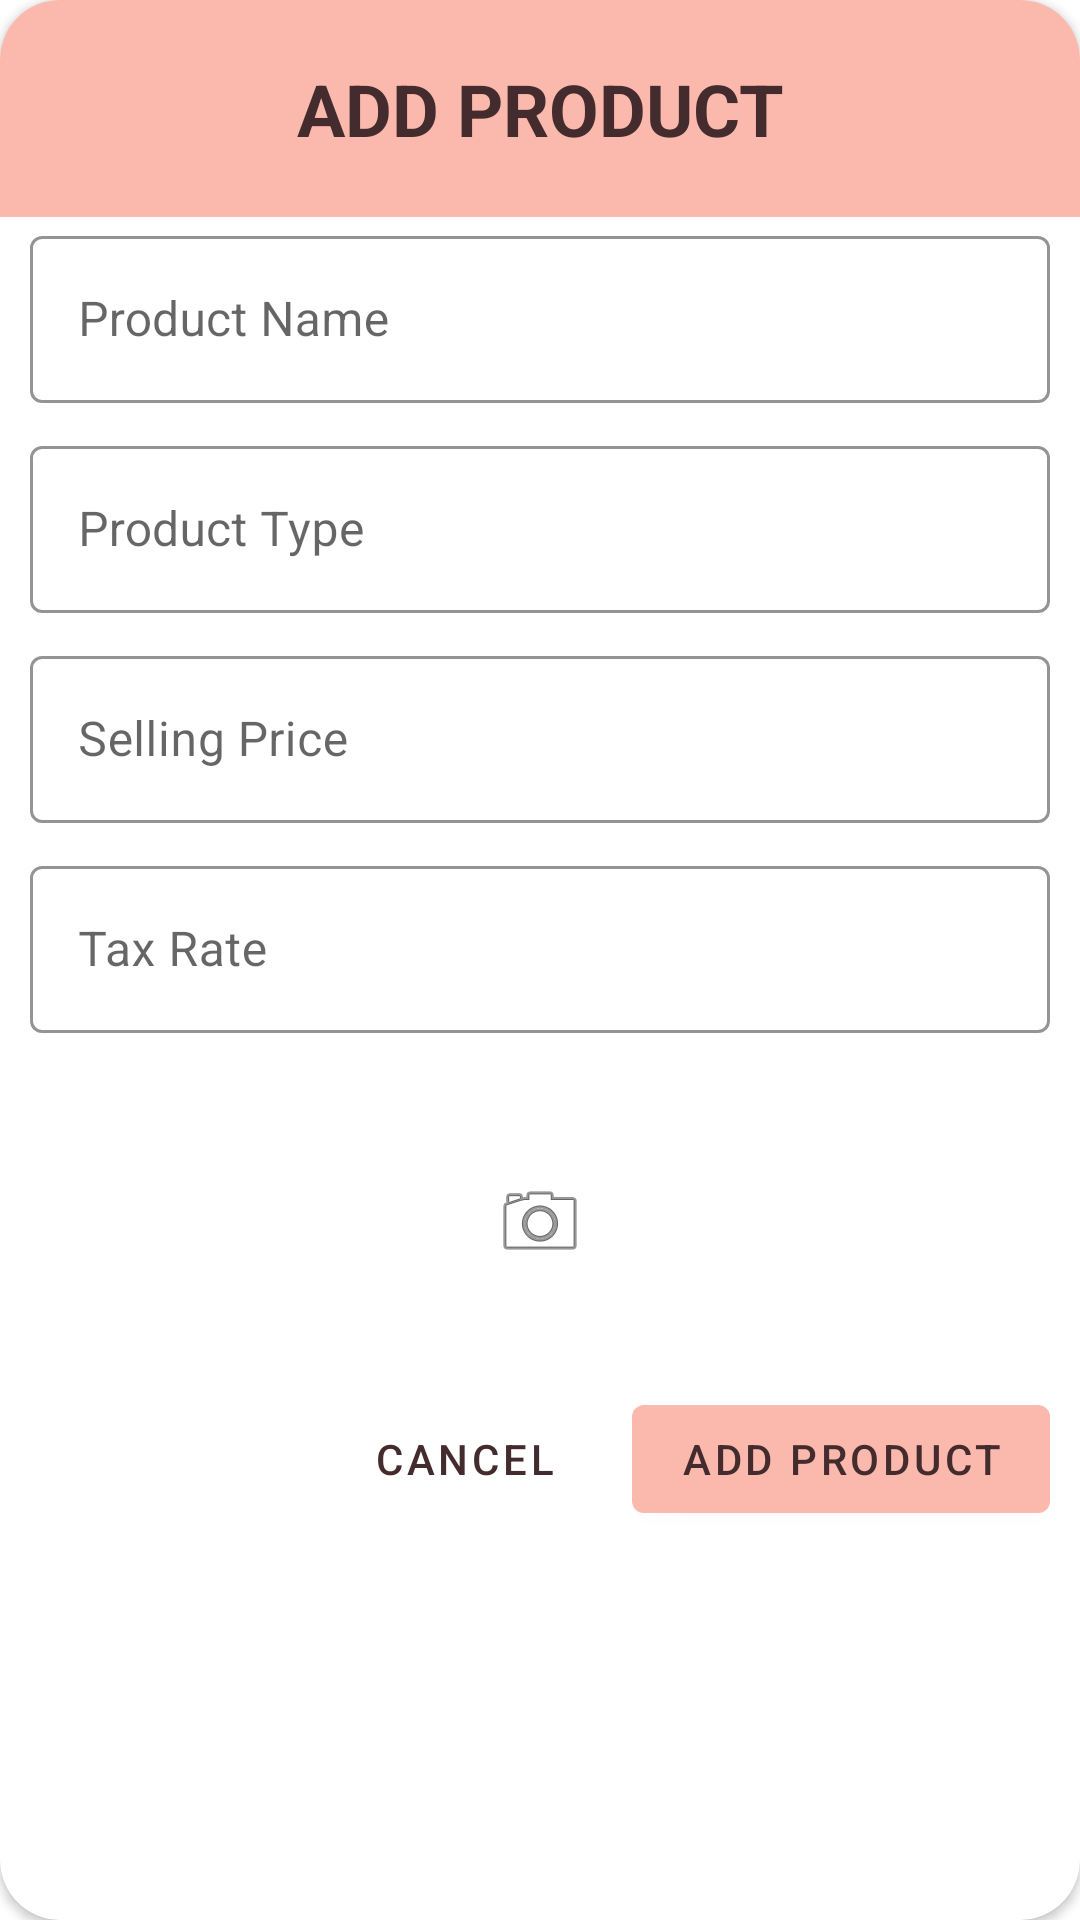

Screen size 1080w x 1920h. Icon name, then its box in pixels as bbox=[x1, y1, x2, y2]:
camera: bbox=[503, 1191, 577, 1250]
